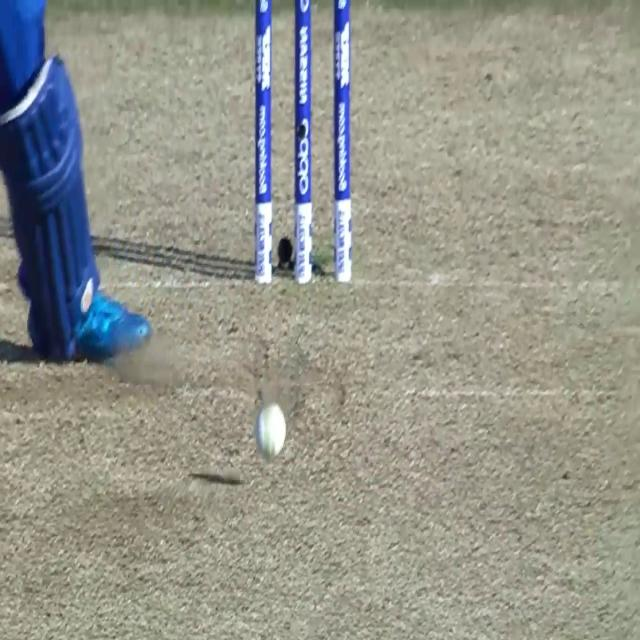ball: (258, 405, 286, 455)
